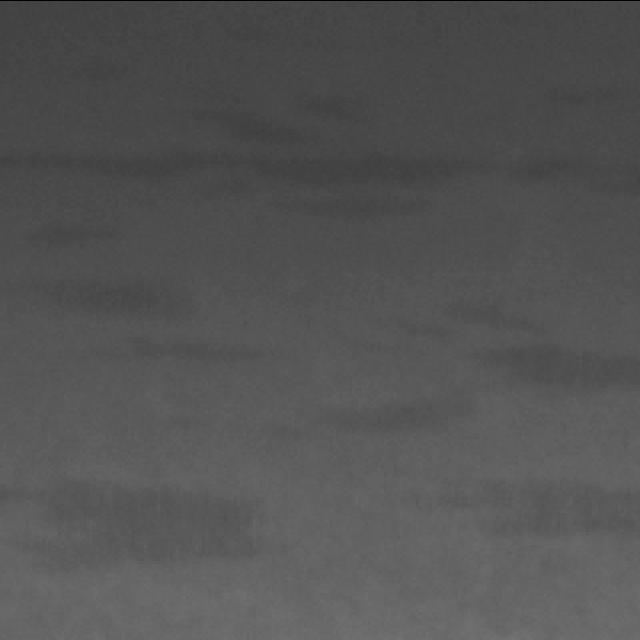inclusion: (0, 472, 265, 586), (377, 298, 640, 394), (3, 326, 271, 386), (440, 461, 640, 541)
